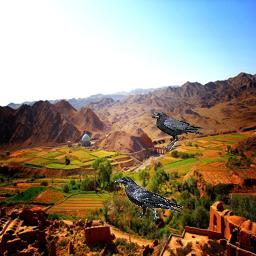Crow: (114, 176, 187, 220), (151, 112, 204, 151)
